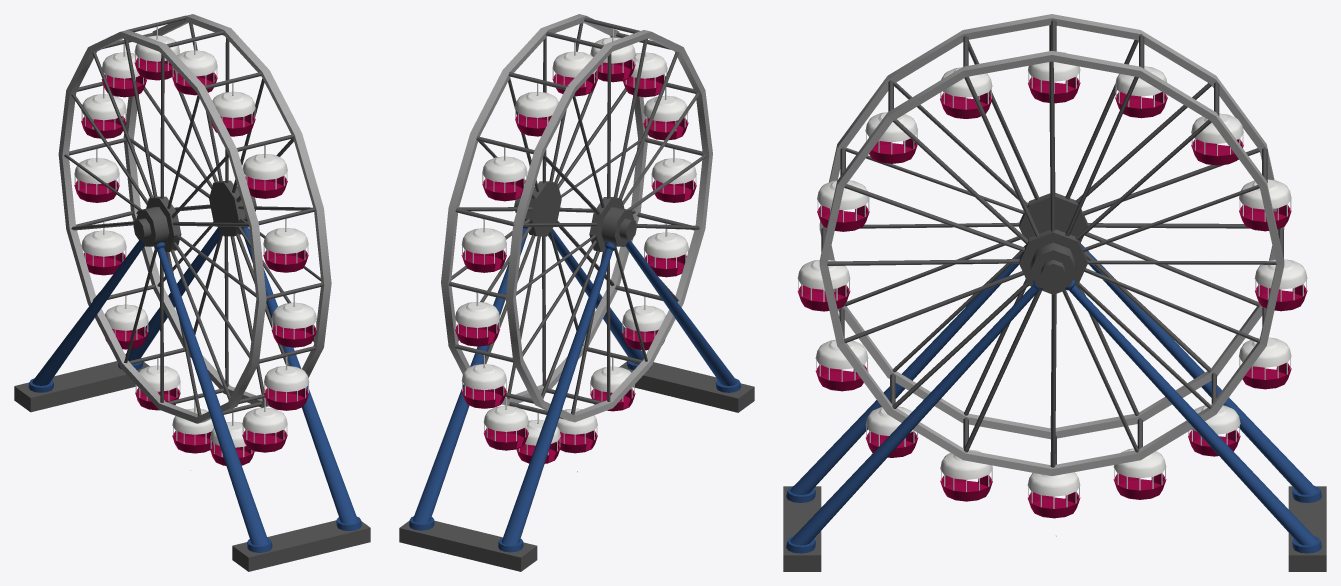
Rendered from daytrip.glb.
3 renders of one model, left to right at view 1: azimuth 30°, elevation 25°; view 2: azimuth 150°, elevation 25°; view 3: azimuth 270°, elevation 25°, orthographic. The views are drawn at different scales.
Parts seen in each view (by area): view 1: buffer-0-mesh-0 (×5); view 2: buffer-0-mesh-0 (×5); view 3: buffer-0-mesh-0 (×5).
Boxes of the visible parts, x1,y1,x2,y2 form: buffer-0-mesh-0 (×5): [14, 14, 370, 571]; buffer-0-mesh-0 (×5): [399, 14, 754, 571]; buffer-0-mesh-0 (×5): [783, 14, 1326, 571].
Bounding box in the file's own units: 14.97 × 50.92 × 49.75.
